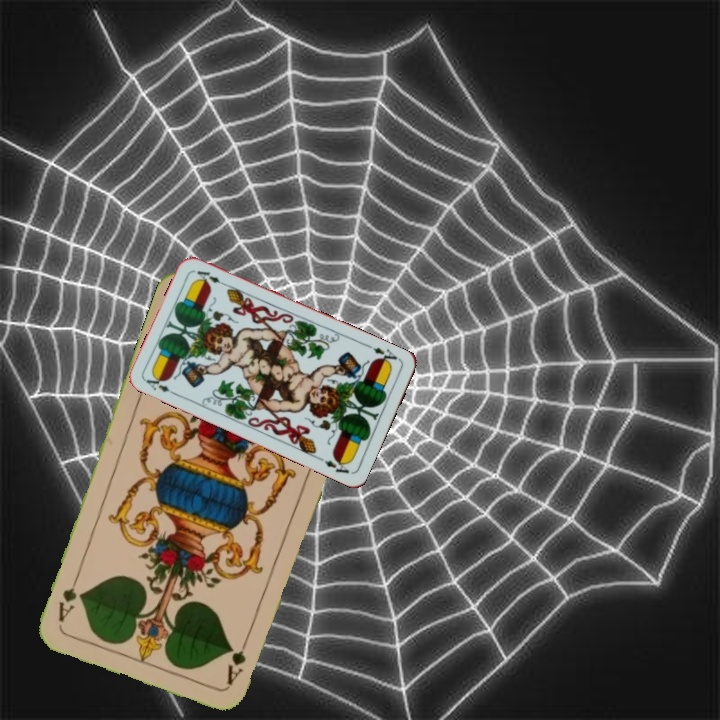EA: (364, 341, 403, 368), (142, 371, 180, 398)
GA: (223, 631, 253, 688)
